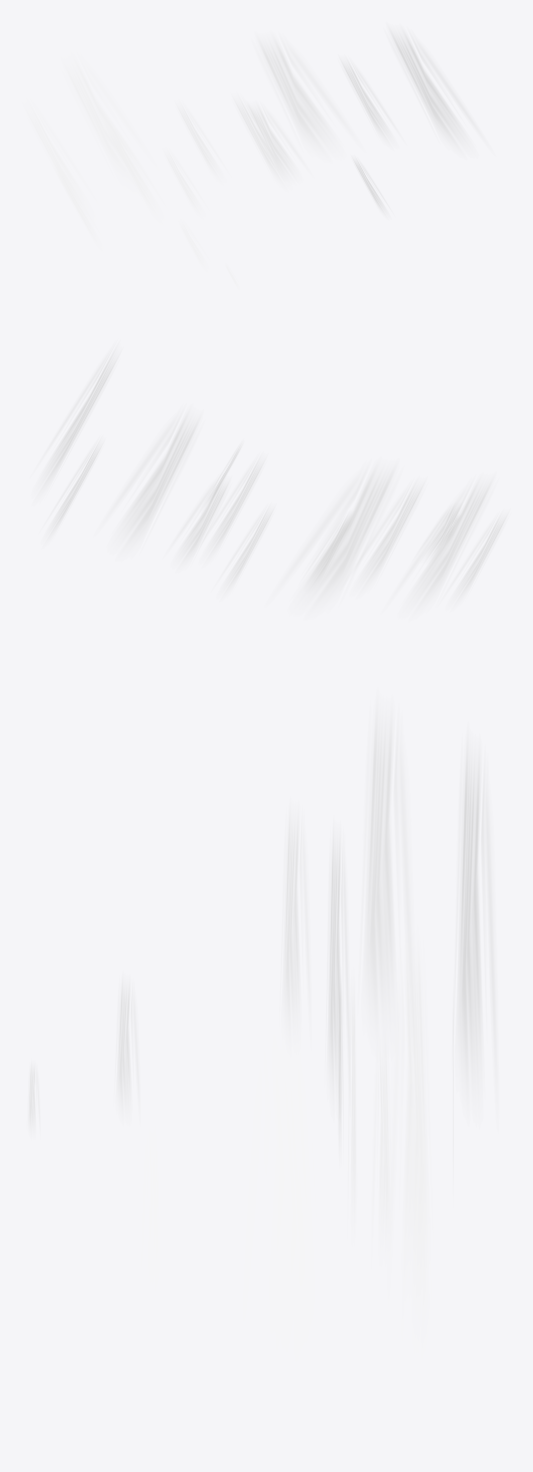
File: fx_godrays_v5.glb
3 renders of one model, top to bottom at view 1: azimuth 30°, elevation 25°; view 2: azimuth 150°, elevation 25°; view 3: azimuth 270°, elevation 25°, orthographic. The views are drawn at different scales.
Visible parts, largest first — view 1: fx_godray_05, fx_godray_01, fx_godray_03, fx_godray_06, fx_godray_04, fx_godray_09, fx_godray_10, fx_godray_13, fx_godray_08, fx_godray_12, fx_godray_11, fx_godray_02; view 2: fx_godray_01, fx_godray_05, fx_godray_06, fx_godray_03, fx_godray_13, fx_godray_04, fx_godray_10, fx_godray_11, fx_godray_08, fx_godray_09, fx_godray_12, fx_godray_00; view 3: fx_godray_03, fx_godray_06, fx_godray_01, fx_godray_05, fx_godray_09, fx_godray_11, fx_godray_13, fx_godray_04, fx_godray_02, fx_godray_00, fx_godray_10.
Part boxes in pixels (x1,y1,x2,y2): fx_godray_05: (258, 38, 347, 150); fx_godray_01: (64, 58, 143, 182); fx_godray_03: (390, 30, 477, 145); fx_godray_06: (25, 103, 88, 217); fx_godray_04: (249, 105, 302, 176); fx_godray_09: (341, 60, 394, 140); fx_godray_10: (234, 98, 286, 182); fx_godray_13: (106, 124, 157, 215); fx_godray_08: (177, 104, 219, 177); fx_godray_12: (164, 151, 200, 212); fx_godray_11: (56, 168, 98, 244); fx_godray_02: (353, 159, 385, 213); fx_godray_01: (287, 466, 395, 604); fx_godray_05: (113, 412, 199, 546); fx_godray_06: (400, 480, 492, 606); fx_godray_03: (41, 349, 118, 490); fx_godray_13: (356, 483, 423, 586); fx_godray_04: (175, 478, 228, 563); fx_godray_10: (208, 458, 264, 556); fx_godray_11: (451, 514, 507, 601); fx_godray_08: (223, 508, 273, 592); fx_godray_09: (49, 441, 102, 536); fx_godray_12: (309, 515, 350, 582); fx_godray_00: (421, 507, 459, 557); fx_godray_03: (243, 1028, 314, 1360); fx_godray_06: (364, 708, 410, 1023); fx_godray_01: (457, 744, 495, 1084); fx_godray_05: (390, 944, 427, 1253); fx_godray_09: (403, 1108, 428, 1341); fx_godray_11: (283, 812, 309, 1027); fx_godray_13: (328, 833, 348, 1090); fx_godray_04: (372, 1040, 389, 1242); fx_godray_02: (142, 1127, 159, 1287); fx_godray_00: (117, 979, 138, 1110); fx_godray_10: (348, 986, 355, 1217).
Bounding box in the file's own units: 1168 × 438 × 522.
1 material, 1 textured.
